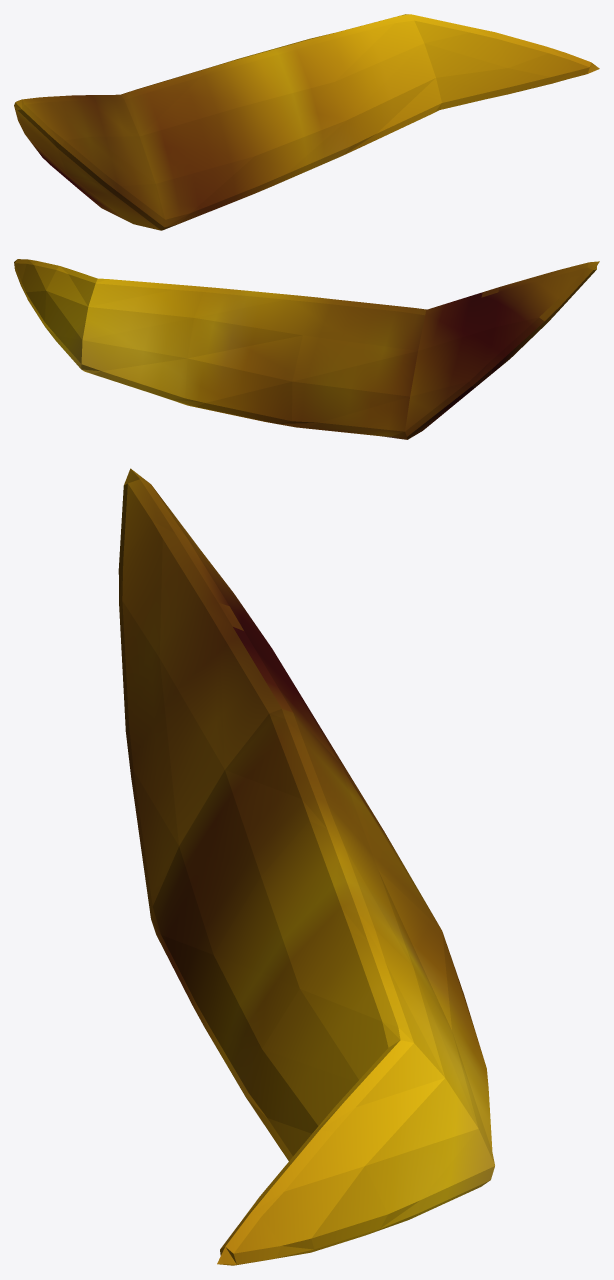
The model's file is spider7.obj.
The picture shows the model from 3 angles, top to bottom: view 1: azimuth 30°, elevation 25°; view 2: azimuth 150°, elevation 25°; view 3: azimuth 270°, elevation 25°; orthographic projection. The views are drawn at different scales.
Parts seen in each view (by area): view 1: ColobotMesh_1_ColobotMesh_; view 2: ColobotMesh_1_ColobotMesh_; view 3: ColobotMesh_1_ColobotMesh_.
Part boxes in pixels (x1=…): ColobotMesh_1_ColobotMesh_: x1=14, y1=14, x2=599, y2=230; ColobotMesh_1_ColobotMesh_: x1=14, y1=259, x2=599, y2=439; ColobotMesh_1_ColobotMesh_: x1=118, y1=468, x2=494, y2=1265.
Bounding box in the file's own units: 2.05 × 0.5736 × 0.5923.
